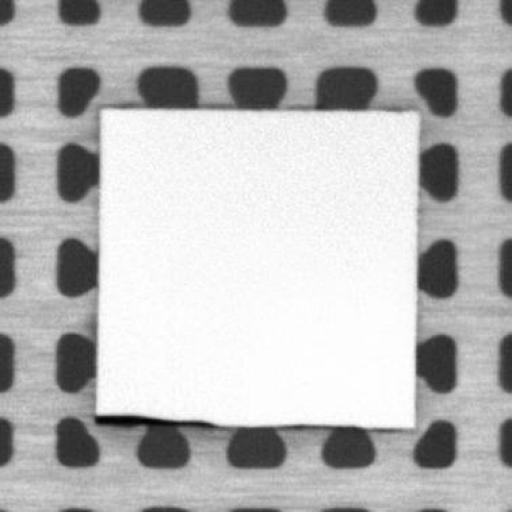DIE_BROKEN: (91, 410, 221, 428)
